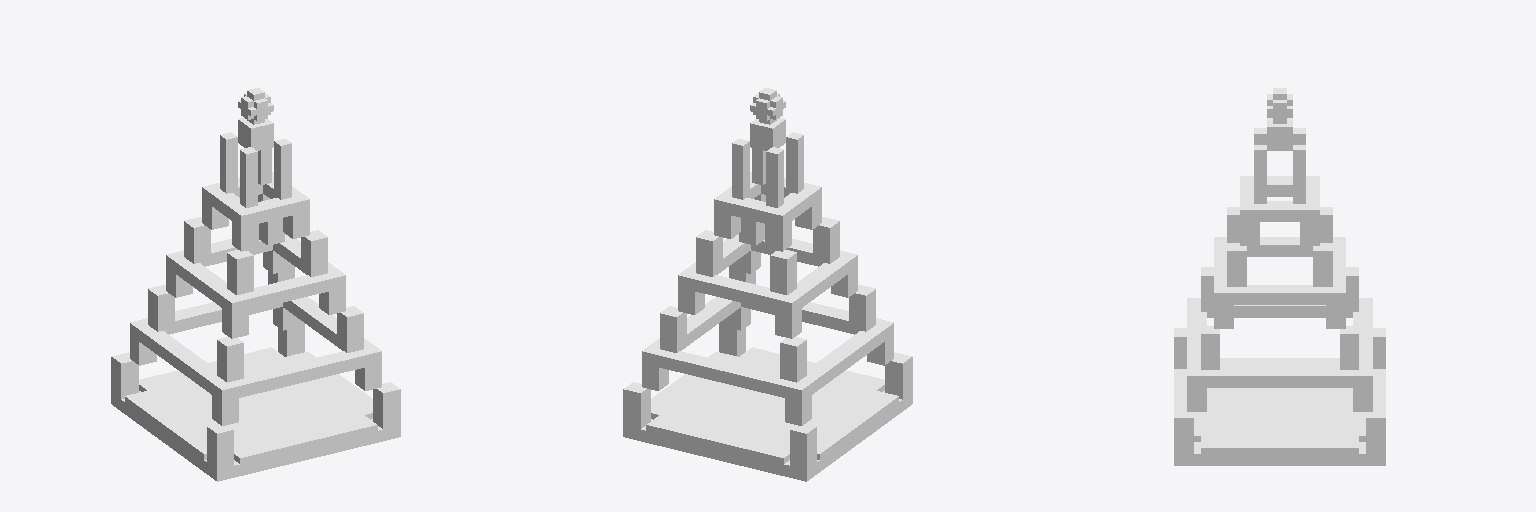
The model's file is tower2.obj.
3 renders of one model, left to right at view 1: azimuth 30°, elevation 25°; view 2: azimuth 150°, elevation 25°; view 3: azimuth 270°, elevation 25°, orthographic.
Bounding box in the file's own units: 32 × 55 × 32.